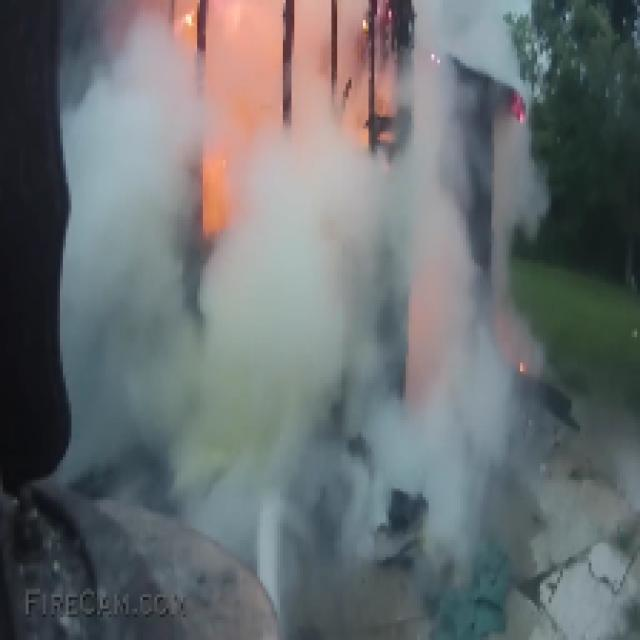Fire: (172, 6, 392, 238), (174, 2, 203, 38)
Smoke: (60, 34, 549, 569)
